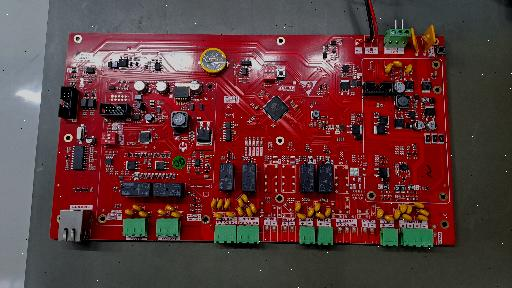var: (421, 24, 437, 53), (410, 28, 419, 53), (390, 60, 403, 68), (384, 63, 392, 75), (404, 64, 413, 74), (158, 208, 167, 218), (399, 203, 407, 214), (417, 209, 429, 216), (413, 202, 425, 209), (237, 198, 245, 208), (376, 209, 384, 219), (393, 209, 401, 219), (383, 215, 394, 222), (138, 211, 149, 218), (406, 204, 413, 215), (241, 194, 249, 203), (416, 215, 428, 221), (237, 206, 244, 216), (315, 212, 325, 219), (171, 211, 181, 218), (224, 199, 231, 209), (314, 202, 321, 212), (166, 205, 176, 212), (132, 204, 142, 211), (225, 211, 236, 217), (296, 213, 307, 219), (401, 214, 412, 220), (246, 207, 253, 216), (250, 204, 257, 213), (125, 209, 134, 216), (295, 202, 301, 212), (213, 212, 223, 218), (325, 207, 331, 217), (308, 207, 314, 217), (217, 199, 223, 209), (211, 199, 217, 208)
